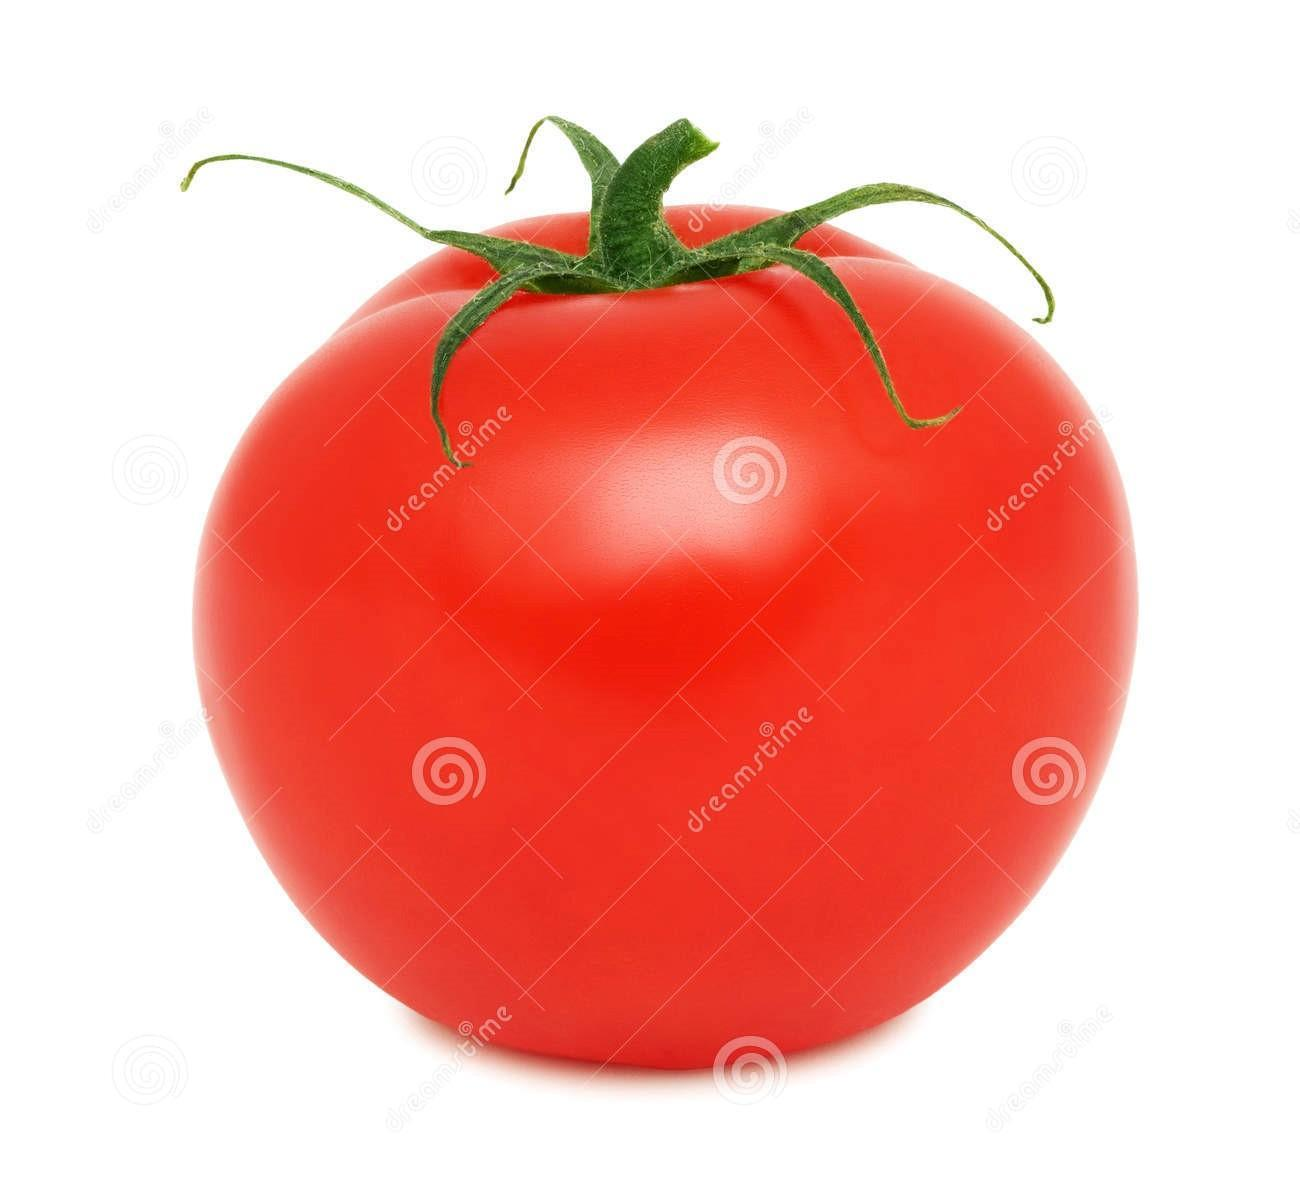healthy-tomato: (181, 118, 1143, 1086)
